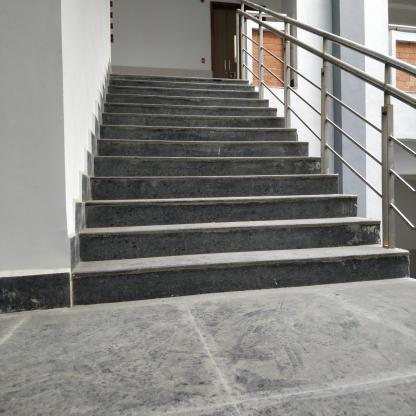stairs: (110, 75, 242, 307)
